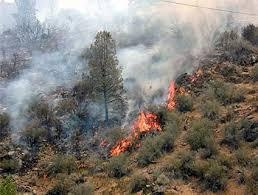fire: (106, 108, 165, 156), (164, 78, 187, 108)
